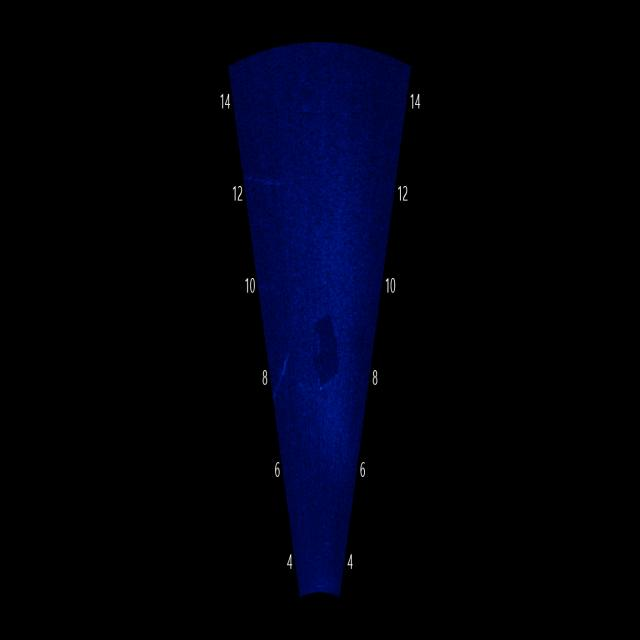square: (304, 304, 352, 420)
